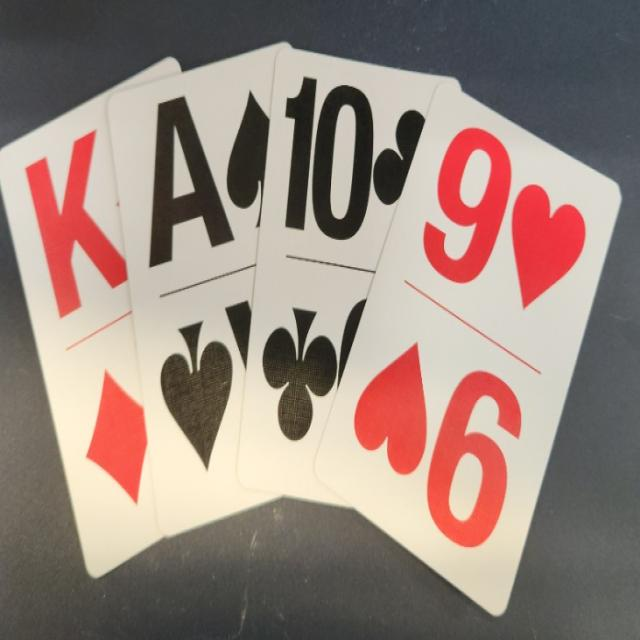Card-10: (239, 47, 459, 506)
Card-9: (314, 85, 621, 615)
Card-A: (110, 43, 280, 533)
Card-K: (1, 55, 181, 576)
